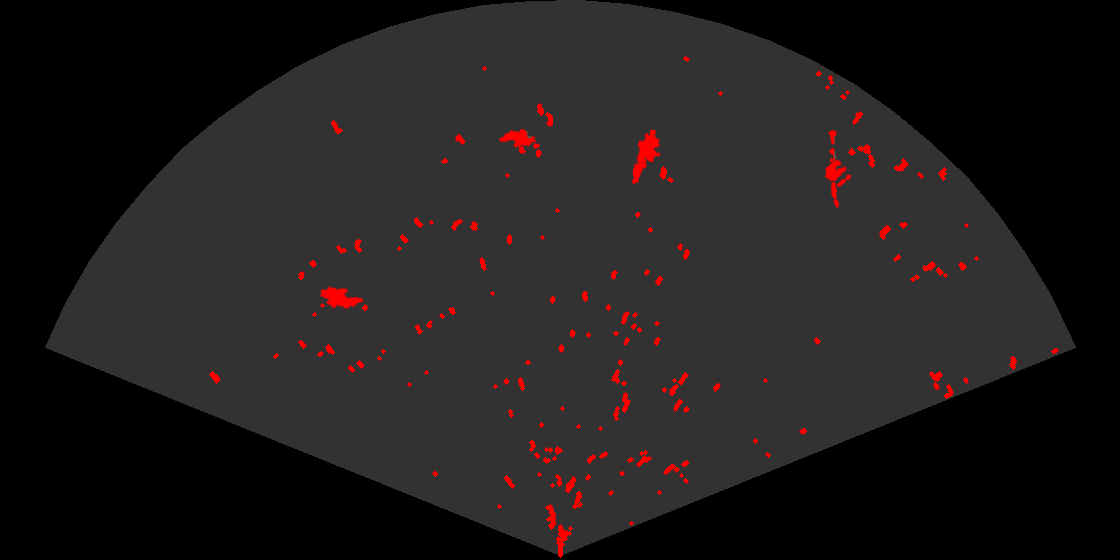AUV: (318, 285, 366, 310), (497, 127, 538, 149)
ball: (823, 158, 853, 189)
chain: (826, 128, 841, 208)
frogman: (631, 130, 663, 184)
